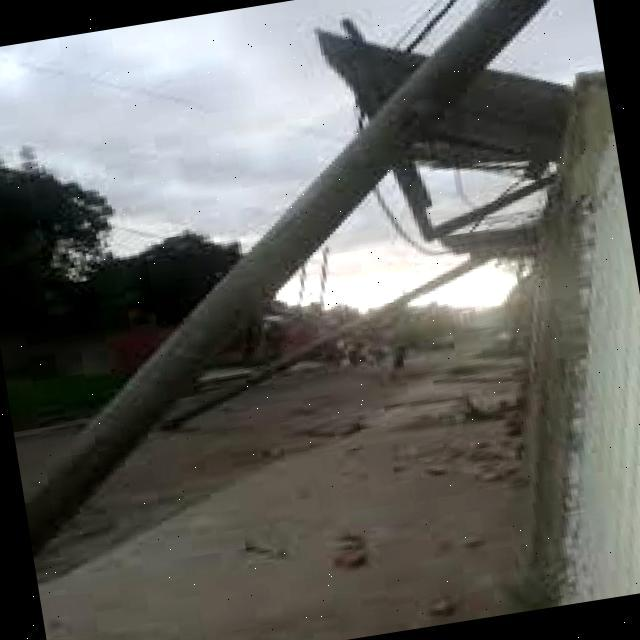Broken Pole: (27, 0, 545, 551)
